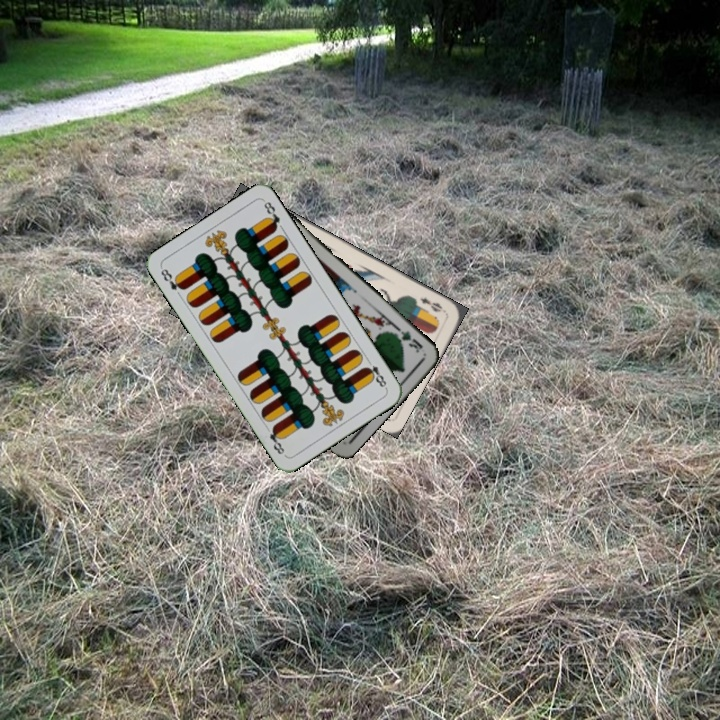E8: (361, 355, 389, 391), (156, 264, 187, 293)
EO: (416, 294, 445, 315)
GK: (389, 324, 426, 355)
